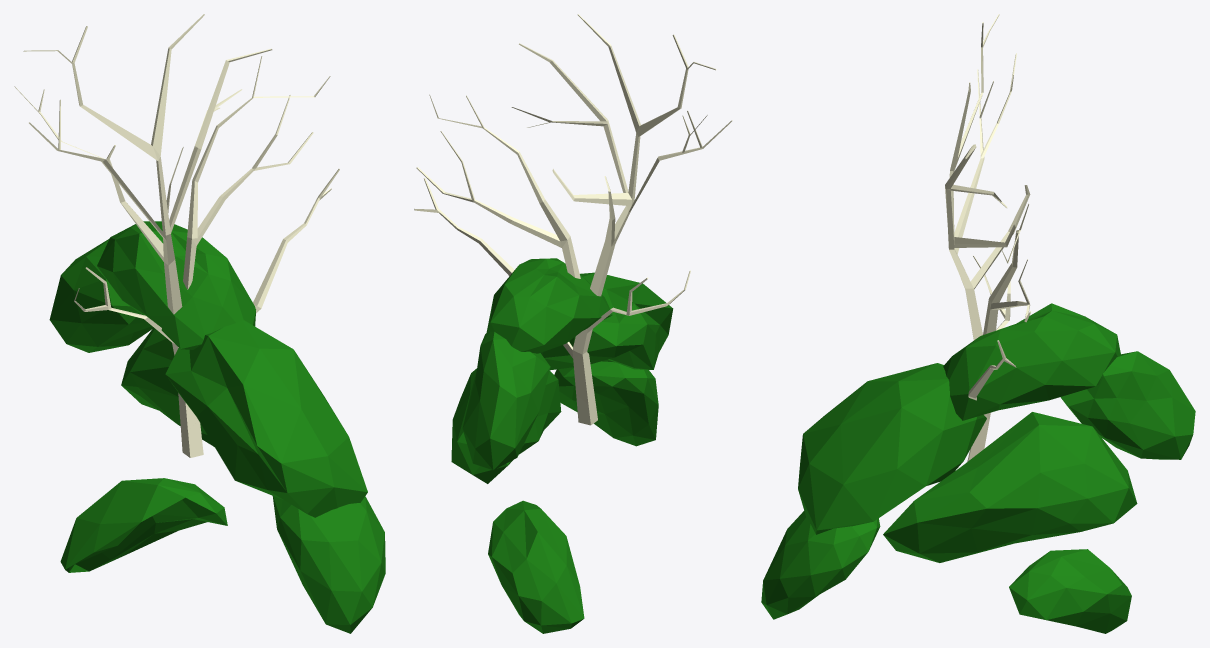
Rendered from GumtreeLowPoly.gltf.
The picture shows the model from 3 angles, left to right: view 1: azimuth 30°, elevation 25°; view 2: azimuth 150°, elevation 25°; view 3: azimuth 270°, elevation 25°; orthographic projection. The views are drawn at different scales.
Parts seen in each view (by area): view 1: Icosphere.002, Cube, Icosphere.001, Icosphere.003, Icosphere.004, Icosphere, Icosphere.005, Cube.001; view 2: Cube, Icosphere.004, Icosphere, Icosphere.001, Icosphere.002, Icosphere.003, Icosphere.005, Cube.001; view 3: Icosphere.005, Icosphere.002, Icosphere.001, Icosphere, Cube, Icosphere.004, Icosphere.003.
Boxes of the visible parts, x1,y1,x2,y2 form: Icosphere.002: [165, 320, 367, 517]; Cube: [14, 14, 339, 431]; Icosphere.001: [97, 221, 255, 349]; Icosphere.003: [272, 496, 385, 633]; Icosphere.004: [60, 478, 227, 572]; Icosphere: [49, 239, 153, 352]; Icosphere.005: [121, 328, 214, 446]; Cube.001: [180, 420, 203, 457]; Cube: [414, 14, 732, 404]; Icosphere.004: [488, 500, 584, 633]; Icosphere: [462, 331, 550, 470]; Icosphere.001: [486, 258, 612, 353]; Icosphere.002: [541, 272, 673, 370]; Icosphere.003: [554, 361, 658, 446]; Icosphere.005: [451, 368, 561, 483]; Cube.001: [576, 395, 597, 425]; Icosphere.005: [883, 412, 1137, 562]; Icosphere.002: [798, 363, 986, 534]; Icosphere.001: [943, 303, 1120, 420]; Icosphere: [1060, 351, 1195, 459]; Cube: [945, 14, 1030, 458]; Icosphere.004: [1009, 549, 1131, 633]; Icosphere.003: [761, 511, 880, 619].
Size of the model in its own units: 15.71 by 28.49 by 19.49.
